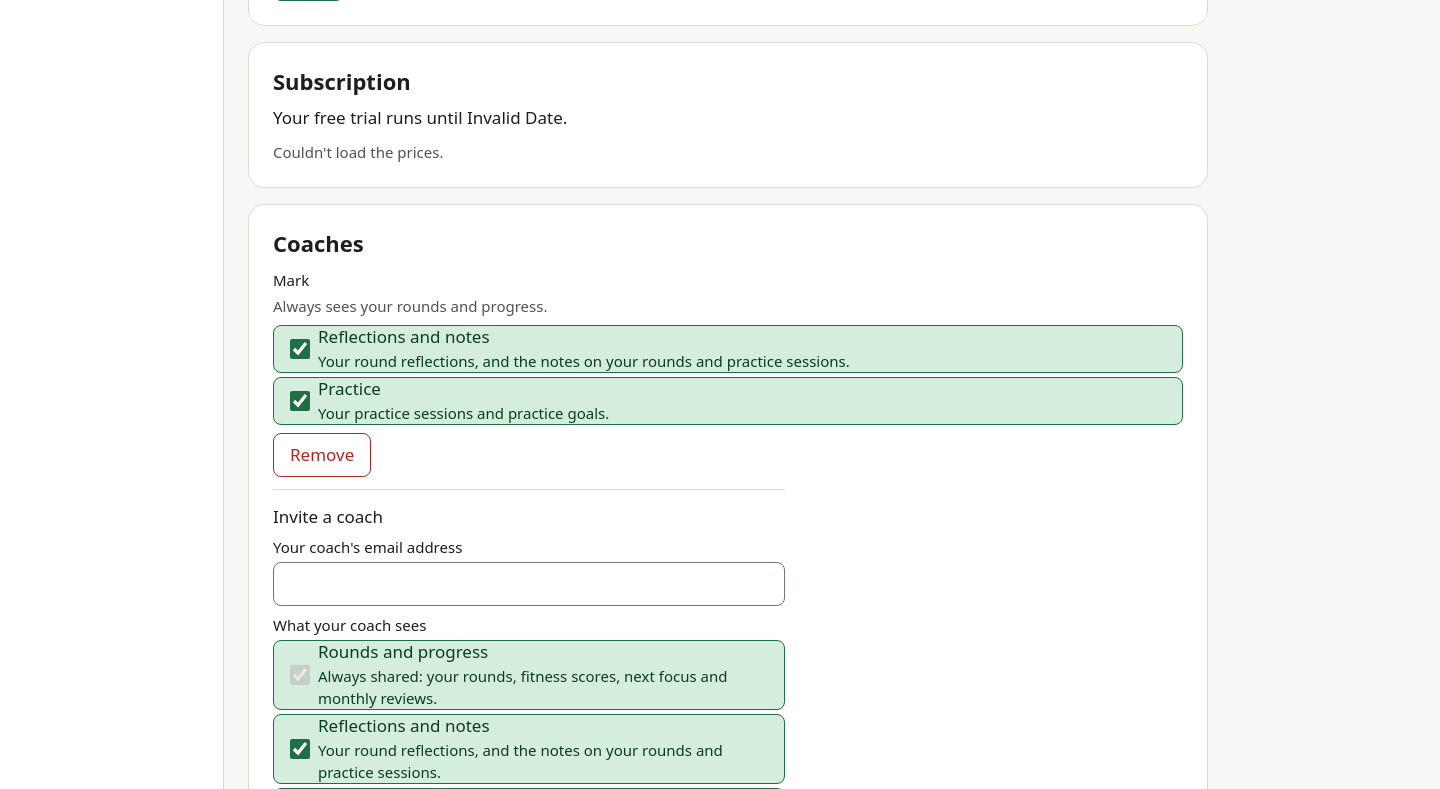
Test: Profile → Coaches (#185) › goes back and says so when the change fails
The width and height of the screenshot is (1440, 789).
(page scrolled)
Click the checkbox labelled "Practice Your practice sessions and practice goals." below "Always sees your rounds and progress.".
click(300, 401)  # box top-left (290, 391), bottom-right (310, 411)
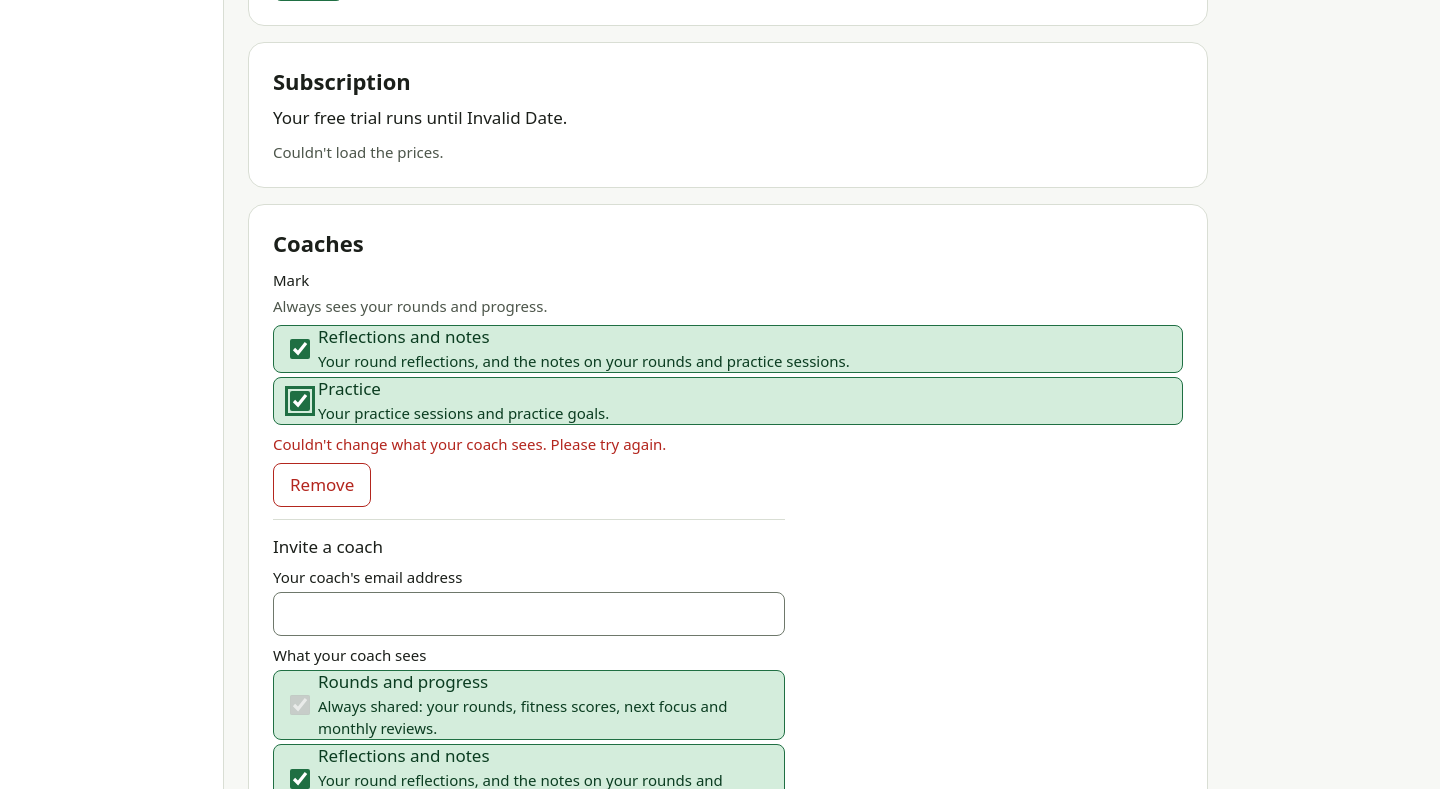
Now the text "Couldn't change what your coach sees. Please try again." is shown, box top-left (273, 434), bottom-right (666, 454)
